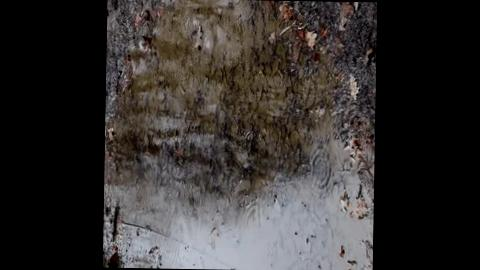Stagnant water: (105, 0, 377, 270)
